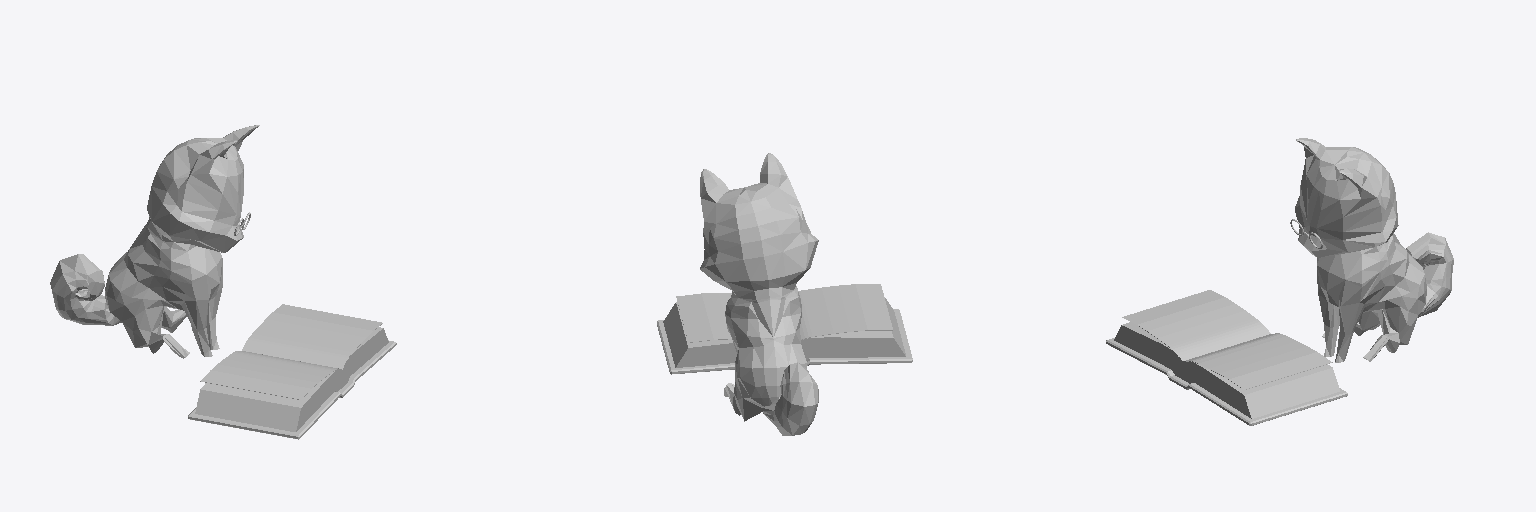
The model's file is book_frame2.obj.
3 views of the same model, side by side, from view 1: azimuth 30°, elevation 25°; view 2: azimuth 150°, elevation 25°; view 3: azimuth 270°, elevation 25° (orthographic).
Visible parts, largest first — view 1: StidyGlasses_Computer_Sitting:Sitting:newRigging:BodzL1, polySurface1; view 2: StidyGlasses_Computer_Sitting:Sitting:newRigging:BodzL1, polySurface1; view 3: StidyGlasses_Computer_Sitting:Sitting:newRigging:BodzL1, polySurface1.
Part boxes in pixels (x1,y1,x2,y2): StidyGlasses_Computer_Sitting:Sitting:newRigging:BodzL1: (50,125,259,358); polySurface1: (188,304,396,439); StidyGlasses_Computer_Sitting:Sitting:newRigging:BodzL1: (700,153,818,435); polySurface1: (657,284,912,374); StidyGlasses_Computer_Sitting:Sitting:newRigging:BodzL1: (1295,138,1453,362); polySurface1: (1106,290,1347,425).
Bounding box in the file's own units: 9.18 × 7.78 × 11.01.